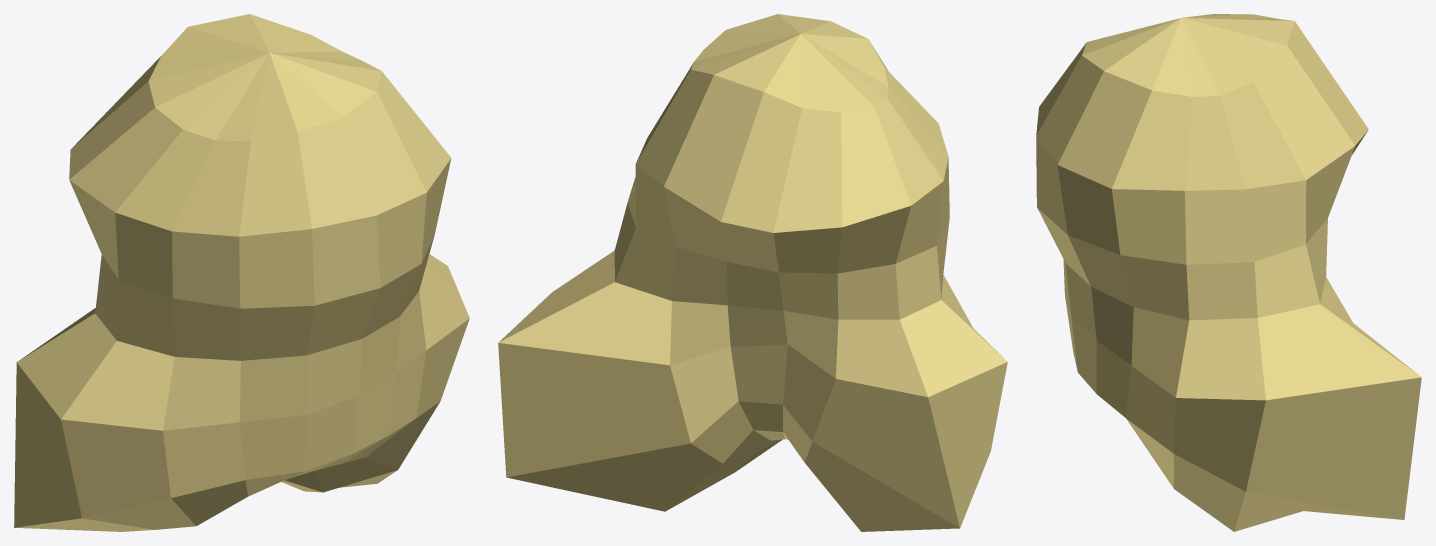
File: Popcorn.fbx
The picture shows the model from 3 angles, left to right: view 1: azimuth 30°, elevation 25°; view 2: azimuth 150°, elevation 25°; view 3: azimuth 270°, elevation 25°; orthographic projection. The views are drawn at different scales.
Parts seen in each view (by area): view 1: Sphere; view 2: Sphere; view 3: Sphere.
Part boxes in pixels (x1,y1,x2,y2): Sphere: (14, 14, 469, 531); Sphere: (498, 14, 1007, 531); Sphere: (1036, 14, 1421, 531).
Size of the model in its own units: 253 by 269 by 206.
